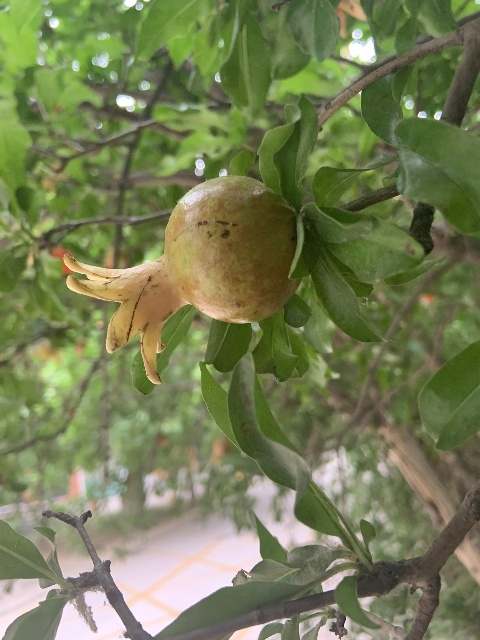early-fruit: (61, 174, 303, 386)
